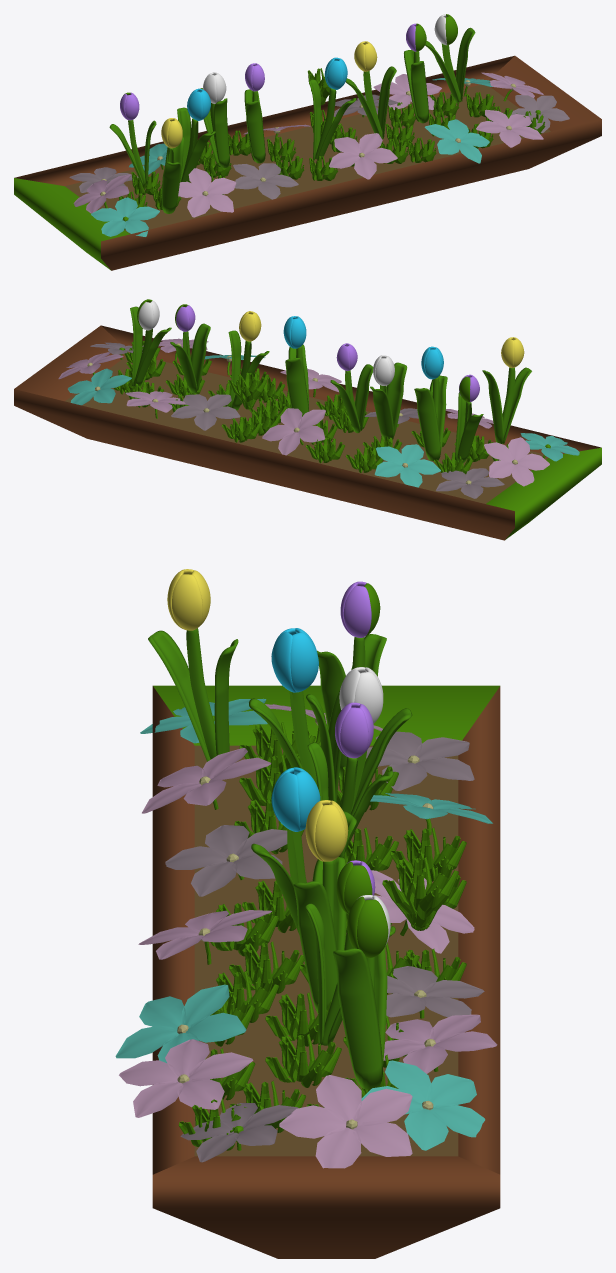
Rendered from FlowerBedFinal - Copy - Copy.fbx.
3 views of the same model, one above another, from view 1: azimuth 30°, elevation 25°; view 2: azimuth 150°, elevation 25°; view 3: azimuth 270°, elevation 25° (orthographic). The views are drawn at different scales.
Visible parts, largest first — view 1: FlowerBed; view 2: FlowerBed; view 3: FlowerBed.
Part boxes in pixels (x1,y1,x2,y2): FlowerBed: (14, 14, 601, 270); FlowerBed: (14, 299, 601, 540); FlowerBed: (115, 569, 500, 1258).
Bounding box in the file's own units: 30.18 × 9.12 × 10.04.
